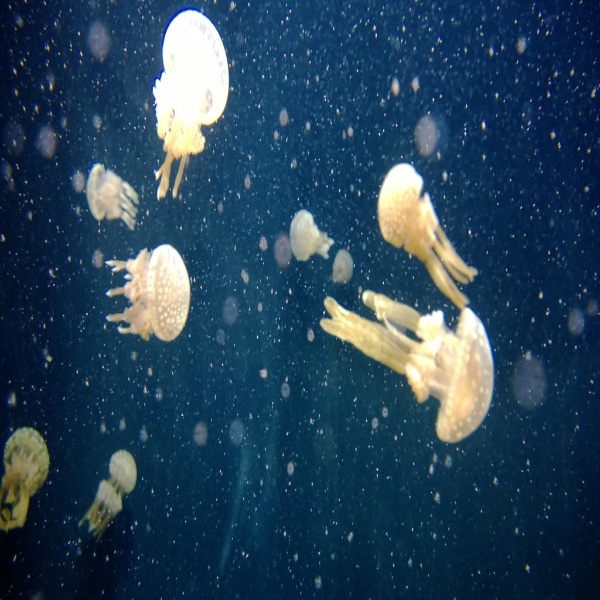Jellyfish: (321, 278, 494, 442), (376, 158, 476, 315), (150, 6, 229, 199), (104, 244, 193, 347), (77, 451, 137, 540), (0, 428, 47, 537), (83, 161, 137, 234), (288, 211, 332, 266)
